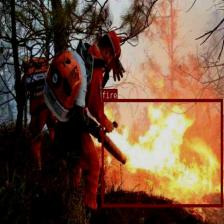fire: (101, 99, 222, 207)
